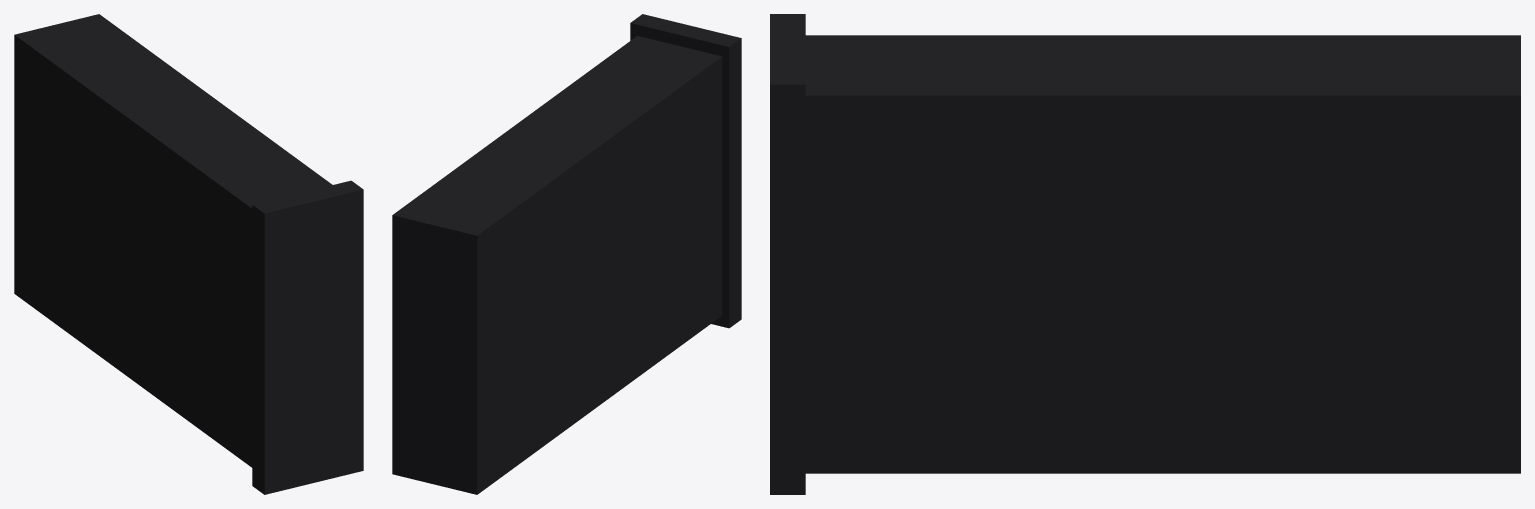
File: Saiga12_Mag10.fbx
3 renders of one model, left to right at view 1: azimuth 30°, elevation 25°; view 2: azimuth 150°, elevation 25°; view 3: azimuth 270°, elevation 25°, orthographic. The views are drawn at different scales.
Parts seen in each view (by area): view 1: prims; view 2: prims; view 3: prims.
Boxes of the visible parts, x1=… form: prims: x1=14, y1=14, x2=363, y2=494; prims: x1=392, y1=14, x2=741, y2=494; prims: x1=770, y1=14, x2=1520, y2=494.
Bounding box in the file's own units: 0.0168 × 0.0456 × 0.0756.
